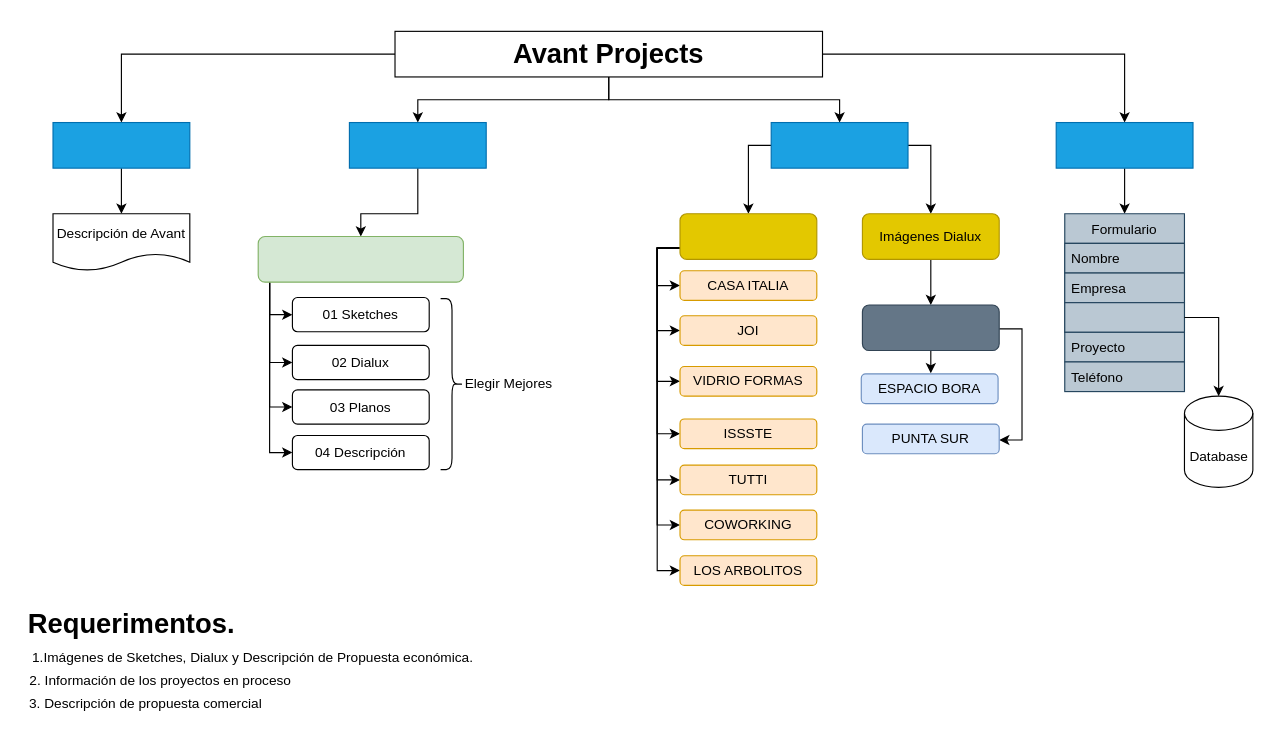
The diagram is 1272 pixels wide and 734 high, and some of its shapes have lost their labels. Here are the shapes that lost their labels. From the top down, the centre of each, then its label:
the point at 121,144: Nosotros
the point at 417,144: ¿Qué hacemos?
the point at 839,144: Proyectos
the point at 1124,144: Contacto
the point at 748,236: imágenes seleccionadas
the point at 360,258: Presentaciones Esquemáticas
the point at 930,327: Proyectos en proceso
the point at 1124,317: Correo
